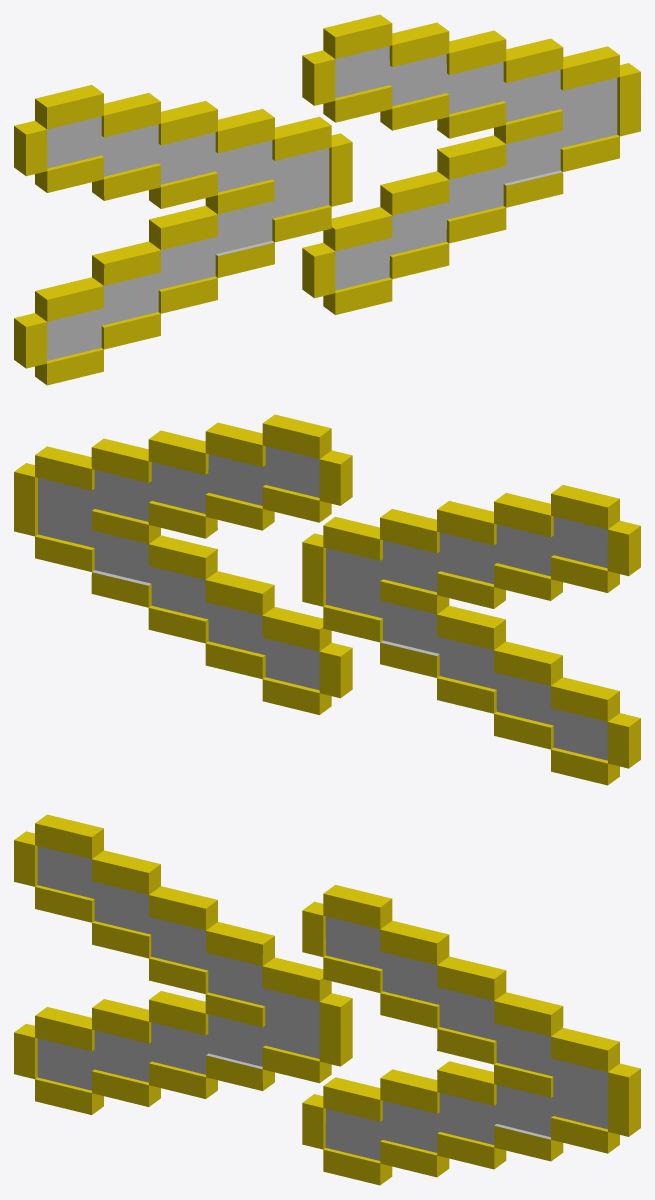
File: speed.fbx
3 views of the same model, one above another, from view 1: azimuth 30°, elevation 25°; view 2: azimuth 150°, elevation 25°; view 3: azimuth 330°, elevation 25° (orthographic).
Parts seen in each view (by area): view 1: Cube.004; view 2: Cube.004; view 3: Cube.004.
Part boxes in pixels (left/top/right/bottom): Cube.004: left=14, top=14, right=640, bottom=385; Cube.004: left=14, top=414, right=640, bottom=785; Cube.004: left=14, top=814, right=640, bottom=1185.
Size of the model in its own units: 643 by 278 by 21.96.
